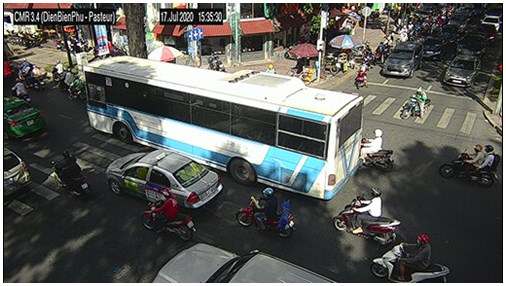xe_buyt: (83, 55, 364, 201)
xe_hoi: (152, 243, 339, 283), (105, 149, 223, 210), (3, 97, 47, 140), (383, 42, 424, 77), (4, 146, 31, 197), (444, 53, 480, 88), (458, 34, 486, 58), (421, 38, 443, 59), (476, 23, 498, 43)
xe_may: (371, 233, 450, 283), (332, 187, 400, 244), (237, 186, 295, 238), (141, 189, 196, 239), (439, 145, 499, 186), (52, 150, 89, 194), (363, 126, 395, 172), (401, 86, 431, 122), (66, 76, 84, 101), (13, 79, 30, 105), (30, 66, 46, 91), (355, 61, 369, 89), (51, 59, 64, 83), (372, 41, 384, 64), (60, 67, 71, 92), (18, 59, 31, 78)
